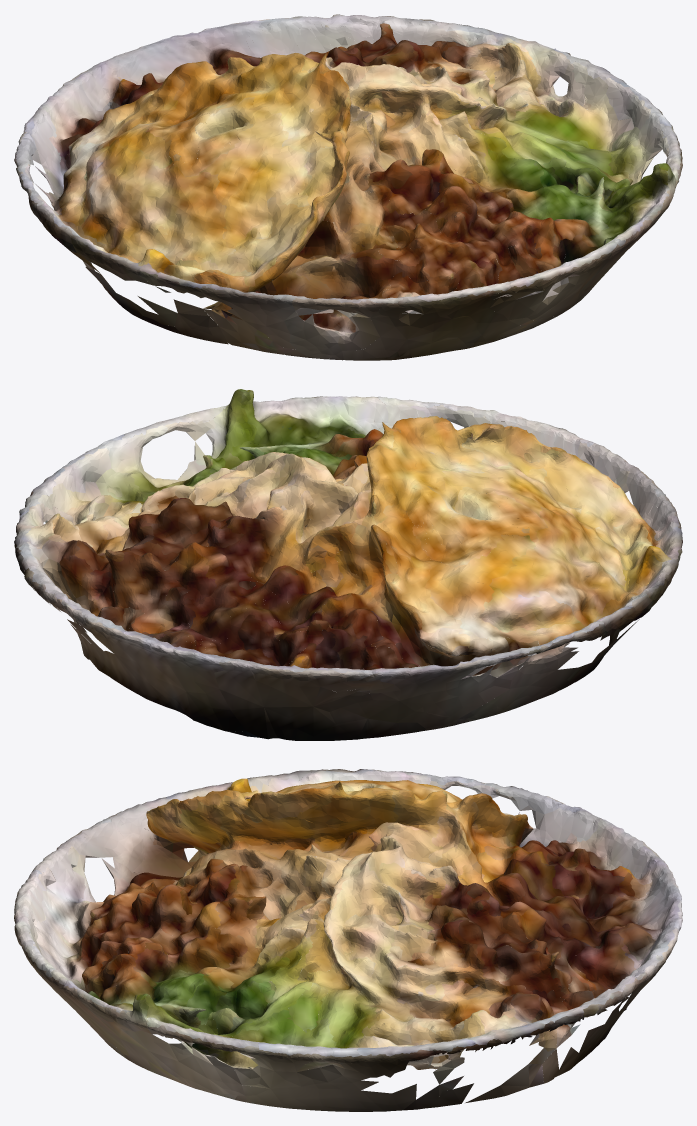
The model's file is macarrao-molho-soja.glb.
The picture shows the model from 3 angles, top to bottom: view 1: azimuth 30°, elevation 25°; view 2: azimuth 150°, elevation 25°; view 3: azimuth 270°, elevation 25°; orthographic projection.
Parts seen in each view (by area): view 1: mesh_main_1, mesh_main_0; view 2: mesh_main_1, mesh_main_0; view 3: mesh_main_0, mesh_main_1.
Part boxes in pixels (x1,y1,x2,y2): mesh_main_1: [14, 14, 682, 360]; mesh_main_0: [16, 14, 682, 360]; mesh_main_1: [17, 396, 682, 740]; mesh_main_0: [14, 389, 678, 737]; mesh_main_0: [14, 769, 663, 1103]; mesh_main_1: [14, 770, 682, 1111].
Bounding box in the file's own units: 0.2194 × 0.074 × 0.2179.
1 material, 1 textured.
